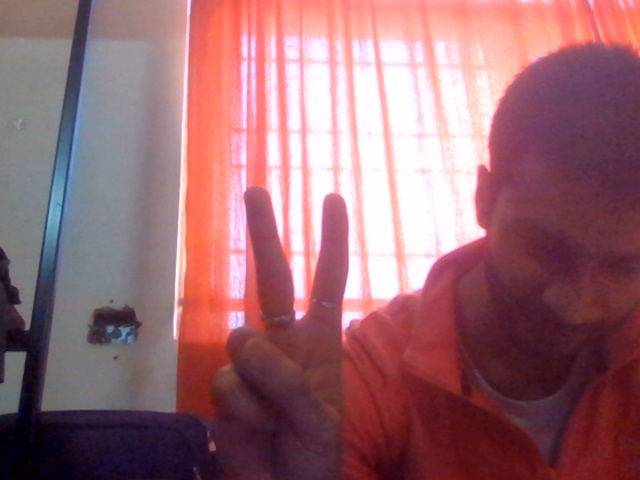V: (173, 149, 387, 480)
